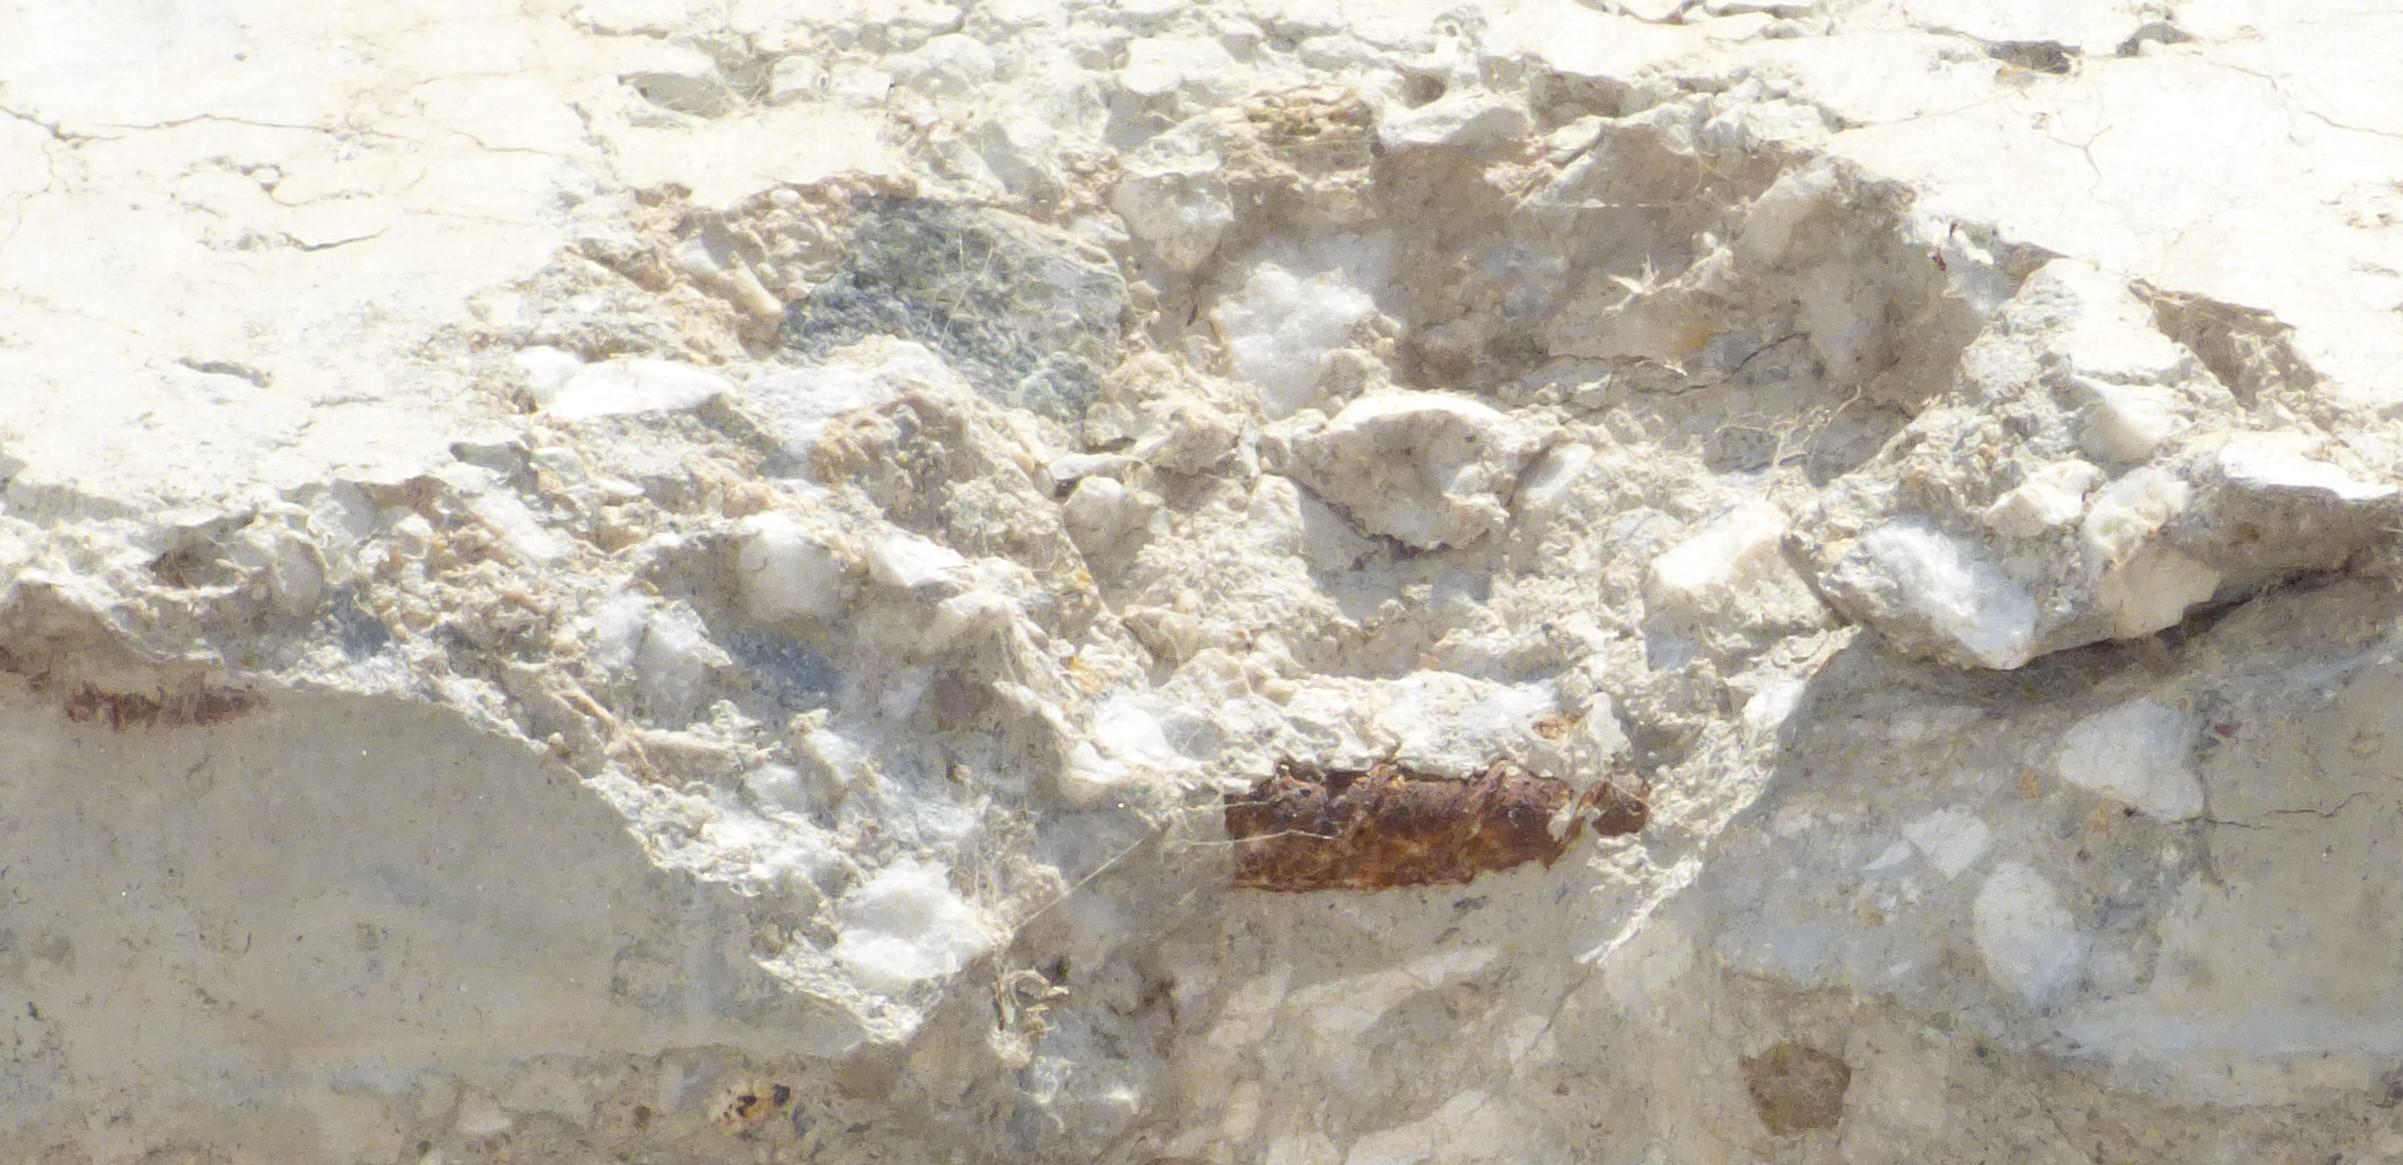Exposed reinforcement: (1221, 762, 1651, 897)
Spalling: (2, 2, 2403, 1165)
